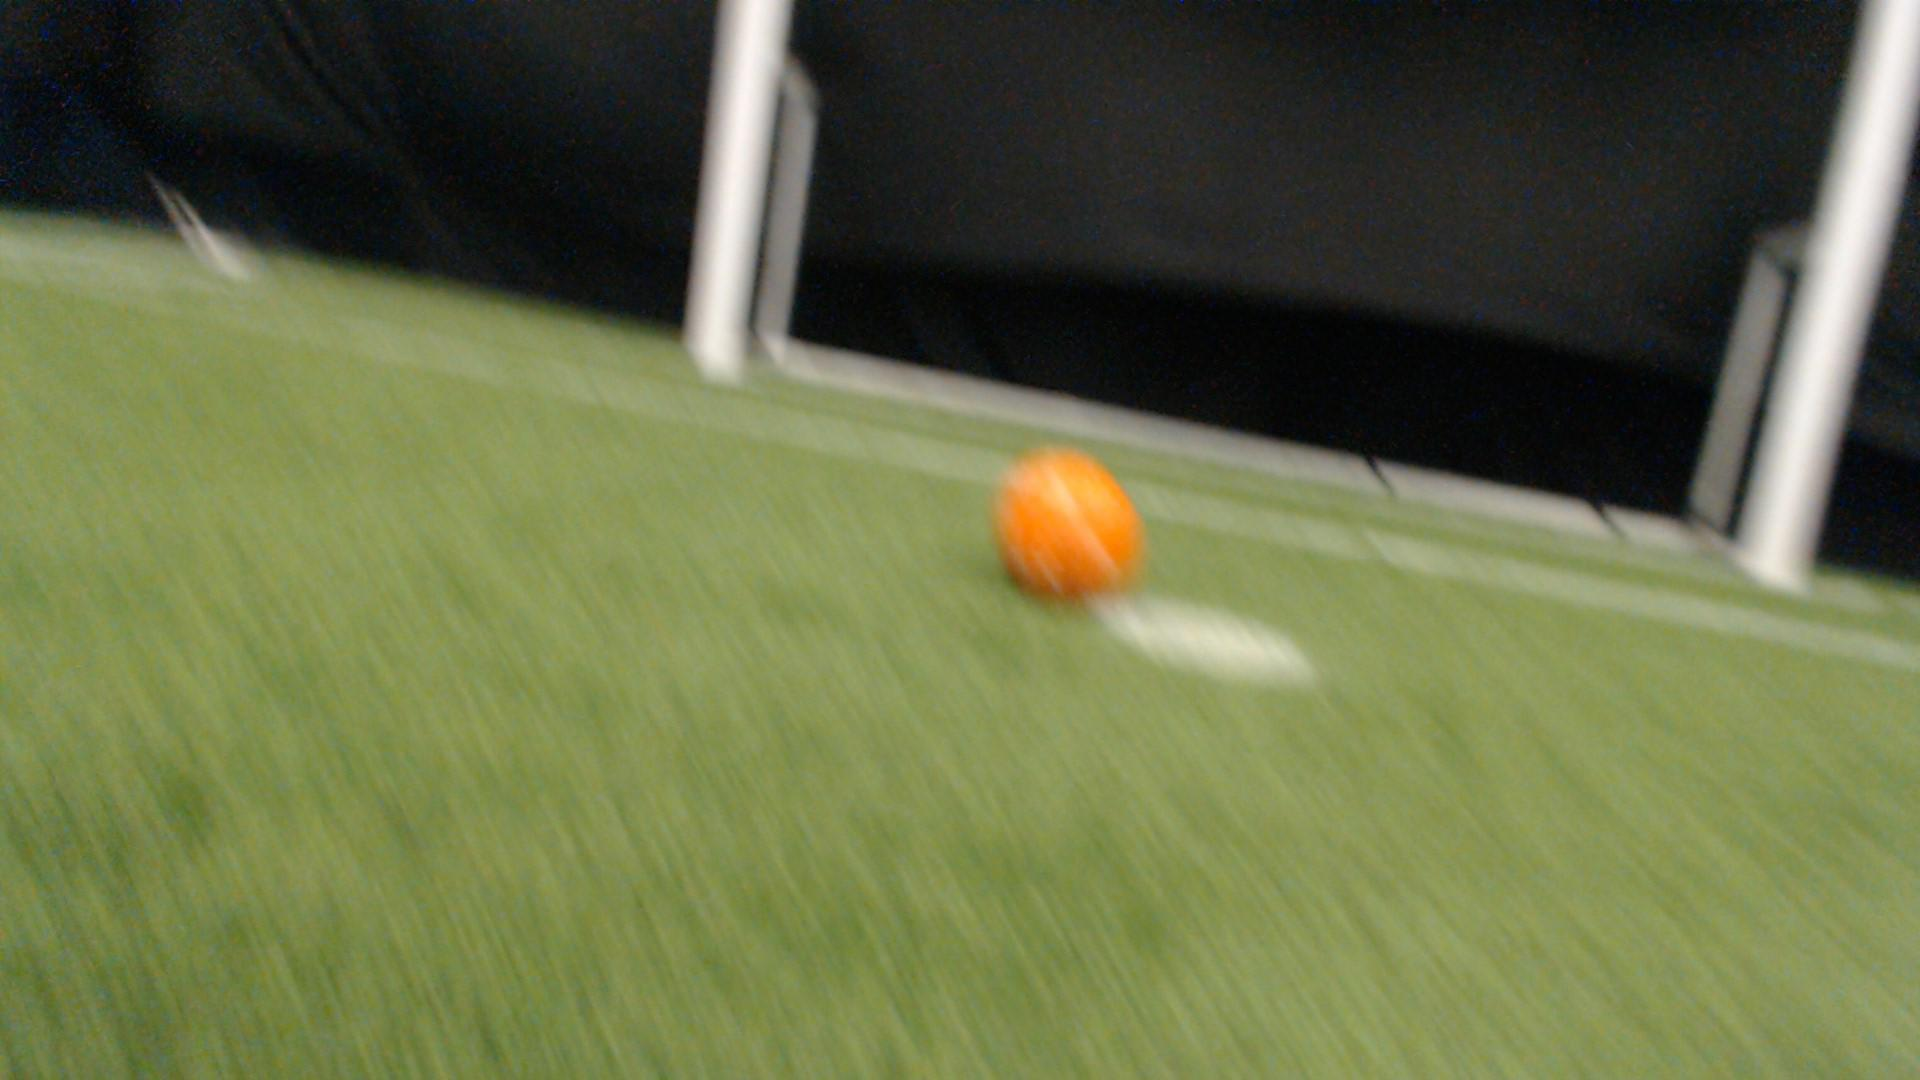bola: (964, 439, 1160, 607)
